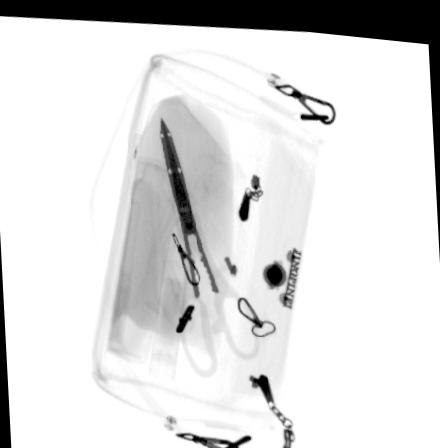Scissors: (161, 113, 265, 373)
